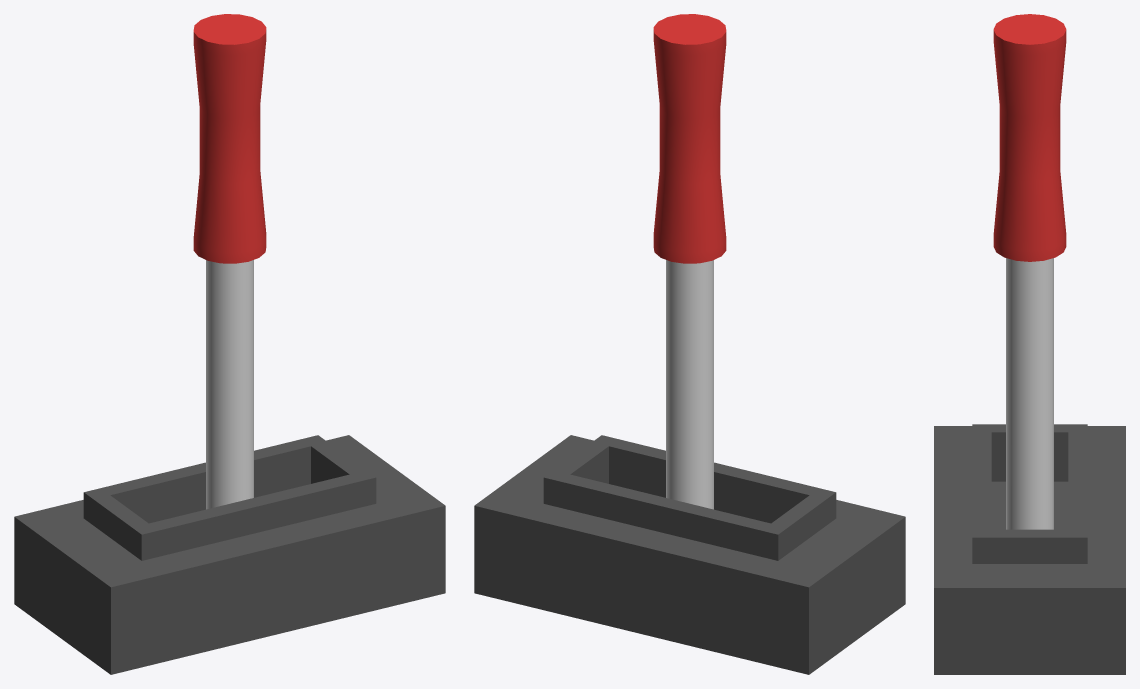
The model's file is lever.fbx.
3 views of the same model, side by side, from view 1: azimuth 30°, elevation 25°; view 2: azimuth 150°, elevation 25°; view 3: azimuth 270°, elevation 25° (orthographic).
Parts seen in each view (by area): view 1: Cube.001, Cylinder; view 2: Cube.001, Cylinder; view 3: Cube.001, Cylinder.
Part boxes in pixels (x1,y1,x2,y2): Cube.001: (14,435,445,674); Cylinder: (193,14,266,509); Cube.001: (474,435,905,674); Cylinder: (653,14,726,509); Cube.001: (934,424,1125,674); Cylinder: (993,14,1066,529).
Size of the model in its own units: 40 by 65 by 20.
